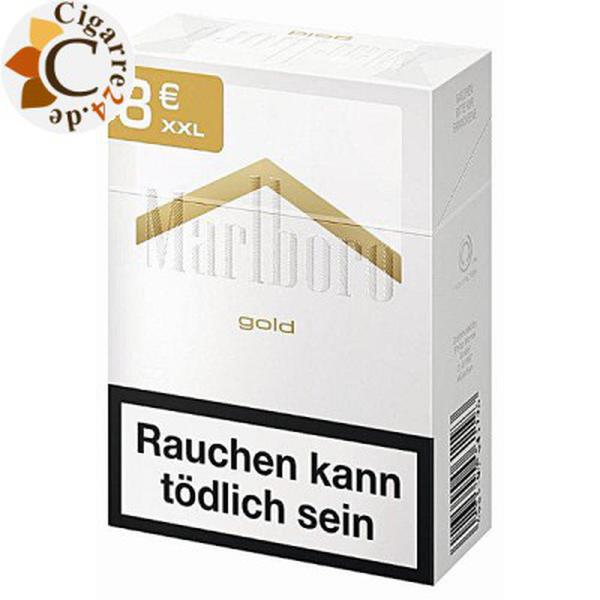marlboro_gold: (107, 87, 438, 527)
